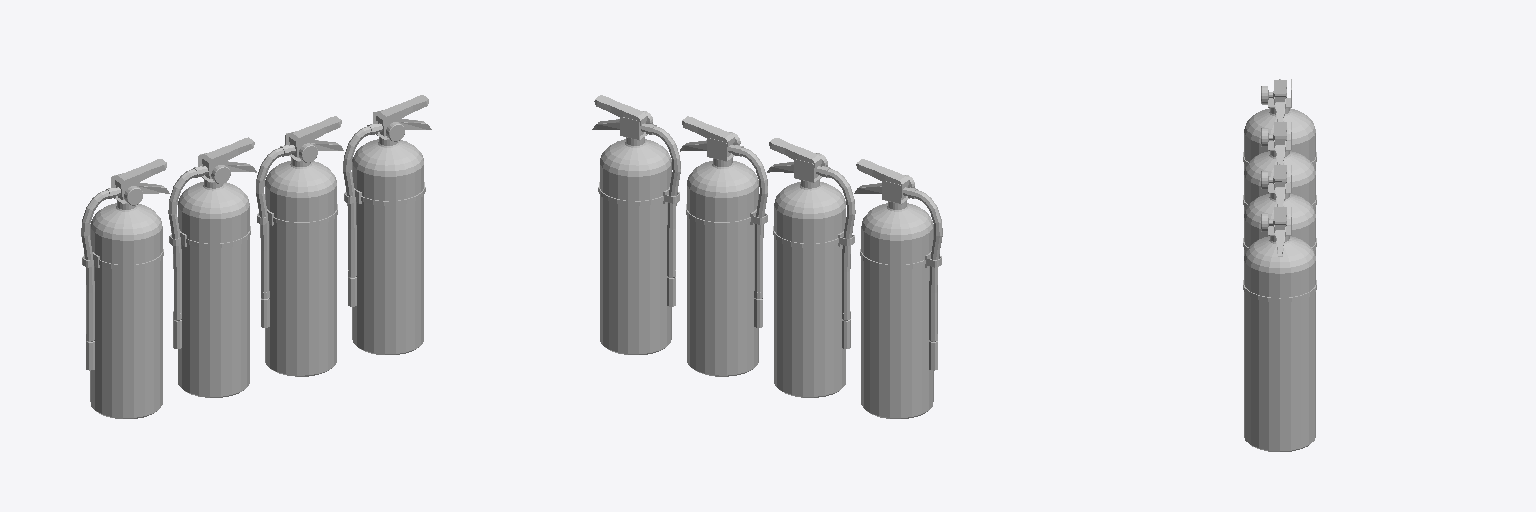
File: extinguidores.obj
The picture shows the model from 3 angles: view 1: azimuth 30°, elevation 25°; view 2: azimuth 150°, elevation 25°; view 3: azimuth 270°, elevation 25°; orthographic projection.
Parts seen in each view (by area): view 1: FireExtinguisher_Mesh.001_FireExtinguisher_Mesh.002; view 2: FireExtinguisher_Mesh.001_FireExtinguisher_Mesh.002; view 3: FireExtinguisher_Mesh.001_FireExtinguisher_Mesh.002.
Boxes of the visible parts, x1,y1,x2,y2 form: FireExtinguisher_Mesh.001_FireExtinguisher_Mesh.002: [81, 95, 431, 418]; FireExtinguisher_Mesh.001_FireExtinguisher_Mesh.002: [592, 95, 942, 418]; FireExtinguisher_Mesh.001_FireExtinguisher_Mesh.002: [1243, 79, 1316, 451].
Bounding box in the file's own units: 13.41 × 8.63 × 2.49.